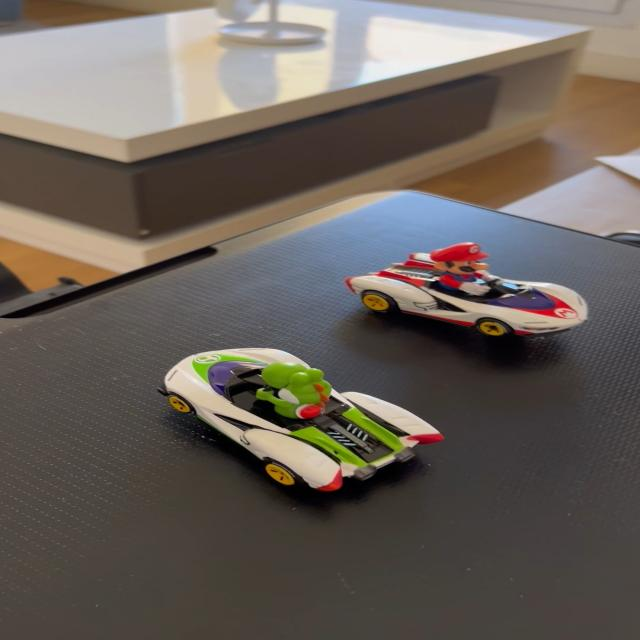mario: (341, 238, 604, 339)
yoshi: (157, 340, 461, 506)
